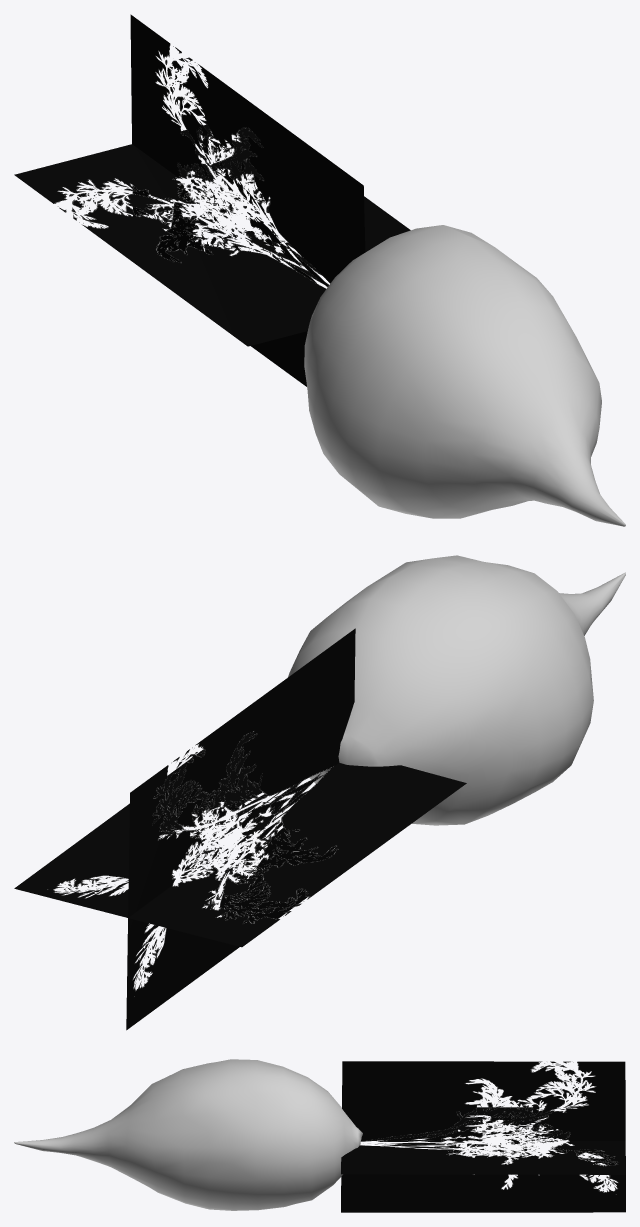
File: Beetroot.fbx
The picture shows the model from 3 angles, top to bottom: view 1: azimuth 30°, elevation 25°; view 2: azimuth 150°, elevation 25°; view 3: azimuth 270°, elevation 25°; orthographic projection. The views are drawn at different scales.
Visible parts, largest first — view 1: Beetroot_LOD0; view 2: Beetroot_LOD0; view 3: Beetroot_LOD0.
Part boxes in pixels (box(x1,y1,x2,y2)): Beetroot_LOD0: box(14, 14, 625, 526); Beetroot_LOD0: box(14, 555, 625, 1030); Beetroot_LOD0: box(14, 1059, 625, 1212).
Size of what is drawn, in the model's own units: 16.44 by 15.72 by 58.17.
